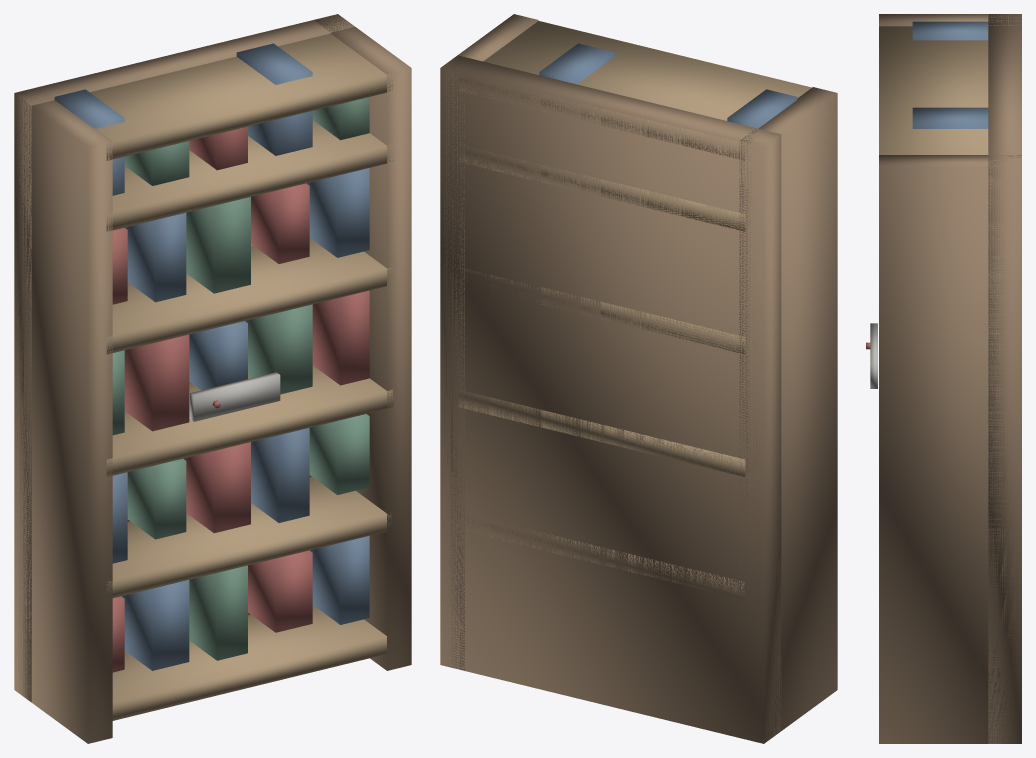
The model's file is bookcase_bay__deep.glb.
The picture shows the model from 3 angles, left to right: view 1: azimuth 30°, elevation 25°; view 2: azimuth 150°, elevation 25°; view 3: azimuth 270°, elevation 25°; orthographic projection. The views are drawn at different scales.
Visible parts, largest first — view 1: world; view 2: world; view 3: world.
Part boxes in pixels (bbox=[...]): world: bbox=[14, 14, 411, 743]; world: bbox=[440, 14, 837, 743]; world: bbox=[866, 14, 1021, 743].
Size of the model in its own units: 1.05 by 1.86 by 0.4526.
